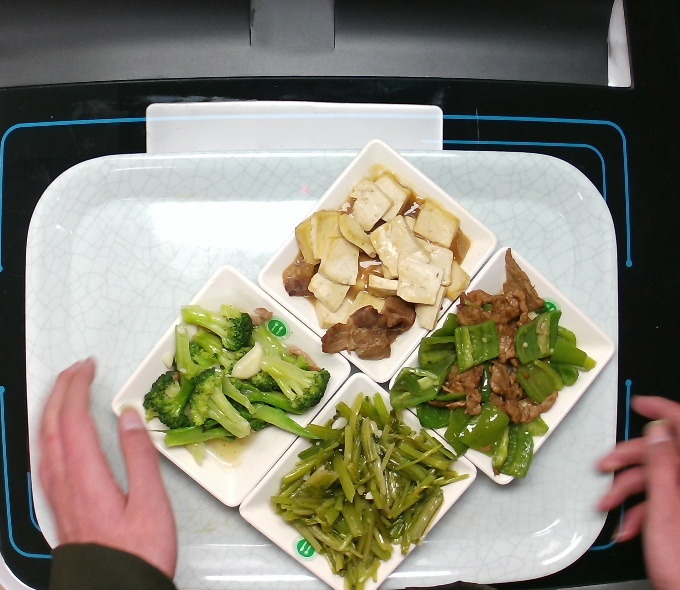wcq-DouFuRouPian: (276, 165, 479, 362)
wcq-QinCai: (288, 400, 457, 578)
wcq-QingJiaoChaoRou: (397, 247, 587, 485)
wcq-XiLanHua: (141, 300, 331, 448)
